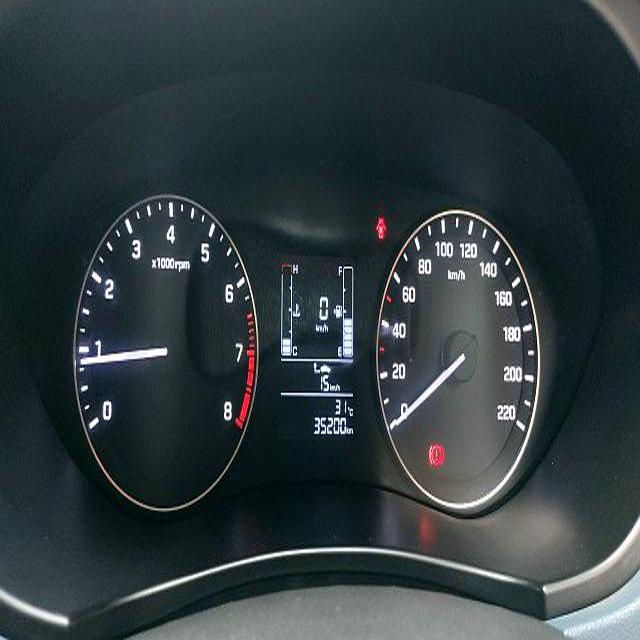odometer: (313, 414, 350, 437)
